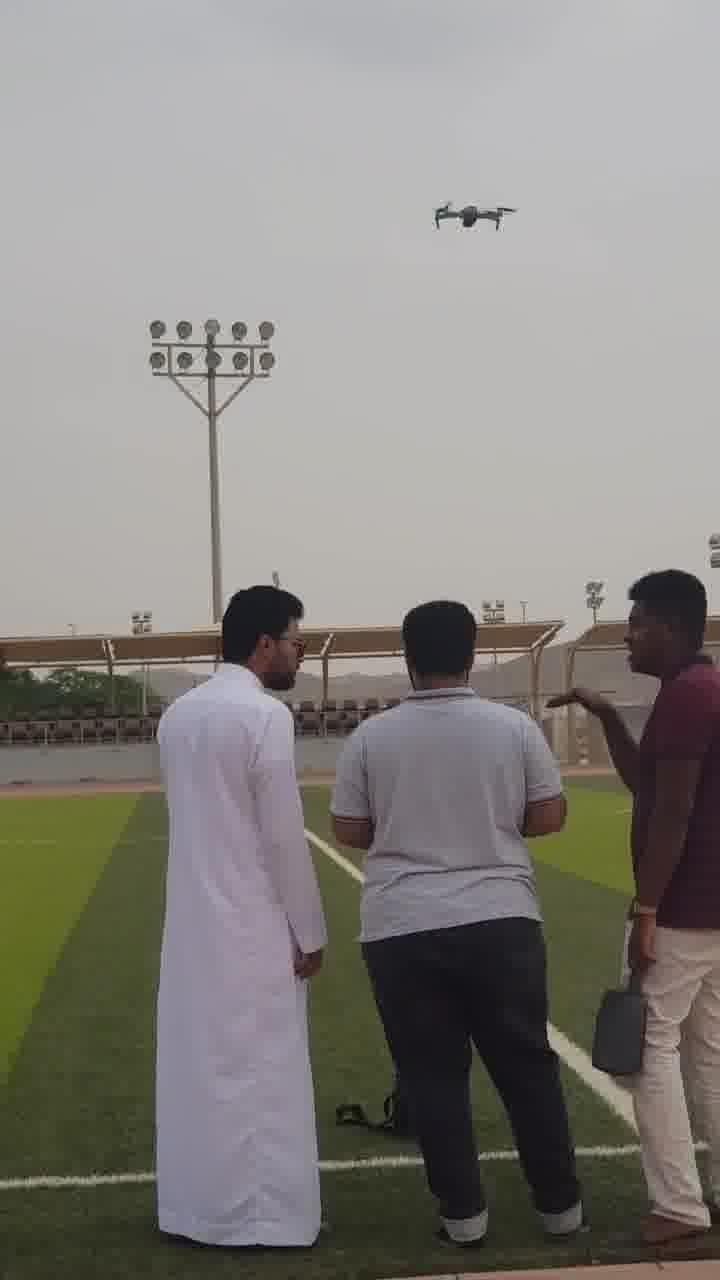drone: (424, 190, 524, 238)
